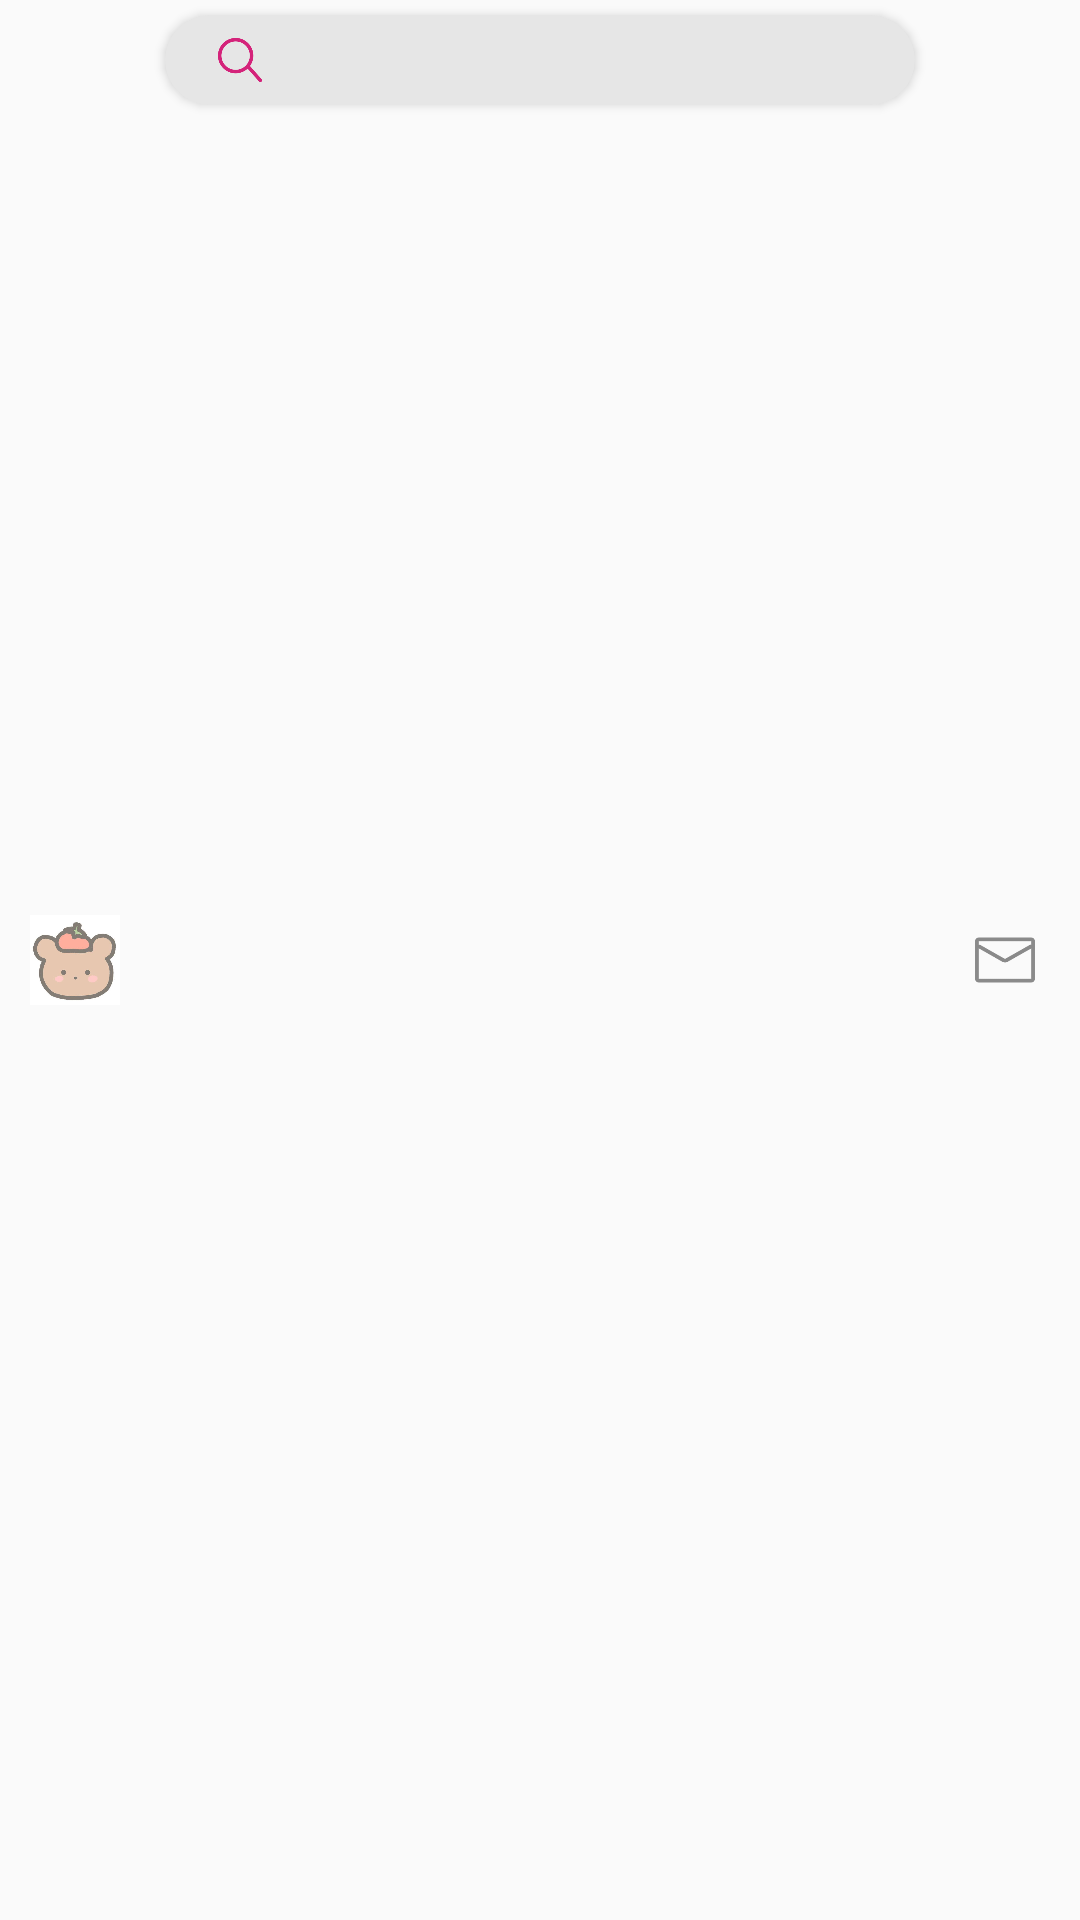

Icon bounding boxes for this 1080 × 1920 phone screenshot, format (x1, y1, x2, y2):
message: (975, 937, 1035, 983)
search: (218, 38, 262, 82)
